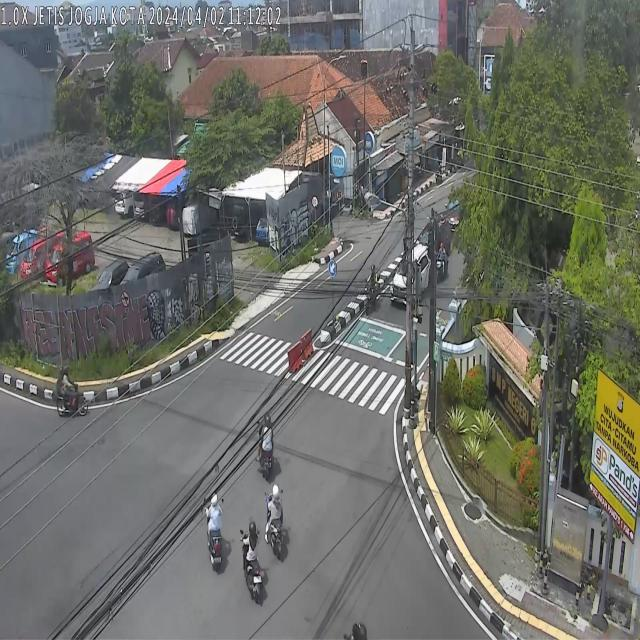car: (390, 244, 430, 306), (442, 197, 462, 234)
motorcycle: (239, 520, 265, 608), (204, 491, 228, 572), (55, 364, 88, 418), (266, 482, 284, 560), (256, 410, 274, 477), (364, 264, 379, 315), (436, 242, 447, 282)
